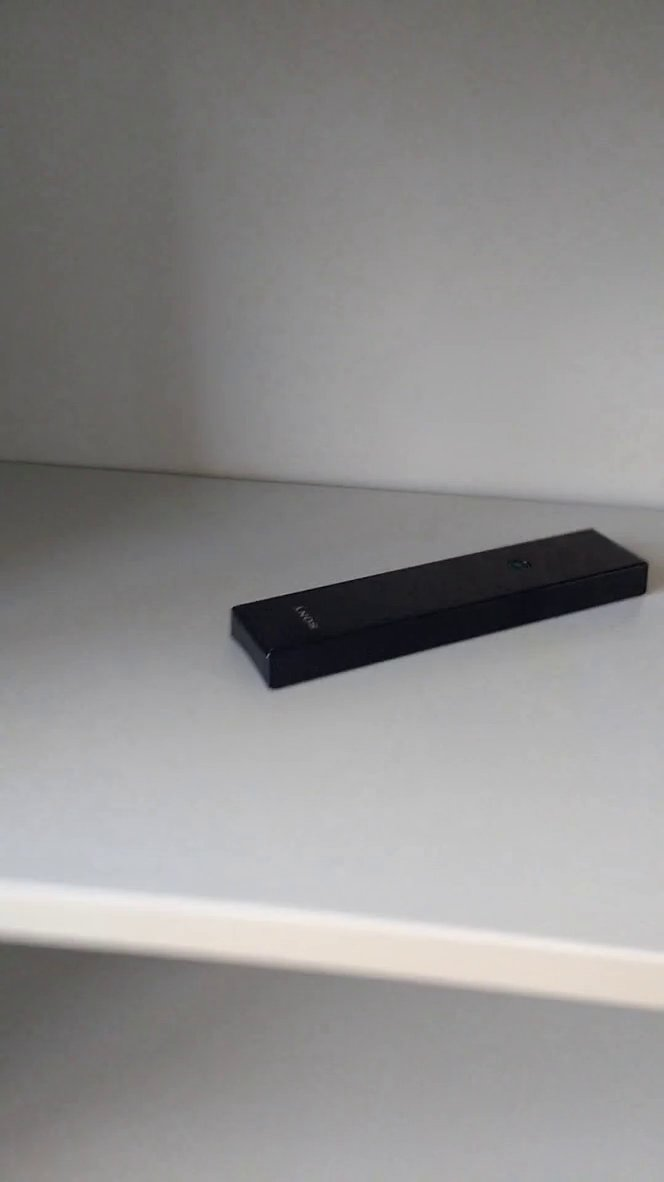remote: (219, 516, 660, 714)
